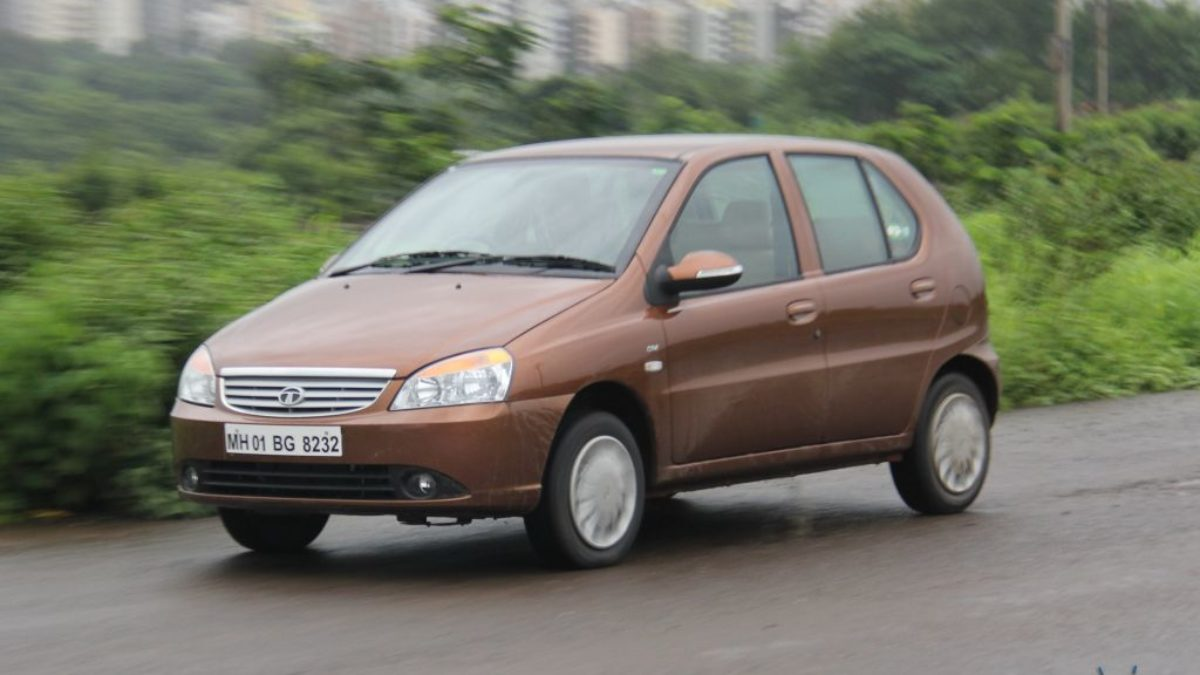car: (157, 131, 1076, 578)
numberplate: (224, 425, 348, 458)
